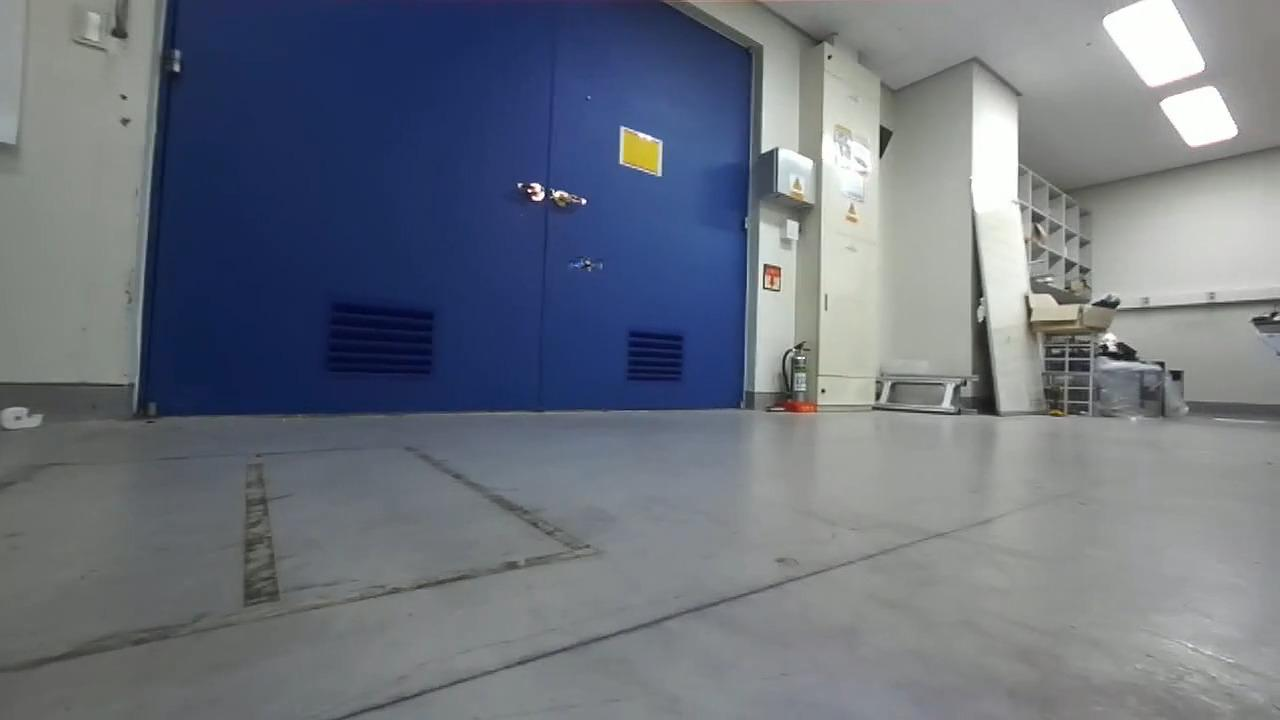crazyflie: (561, 255, 610, 276)
